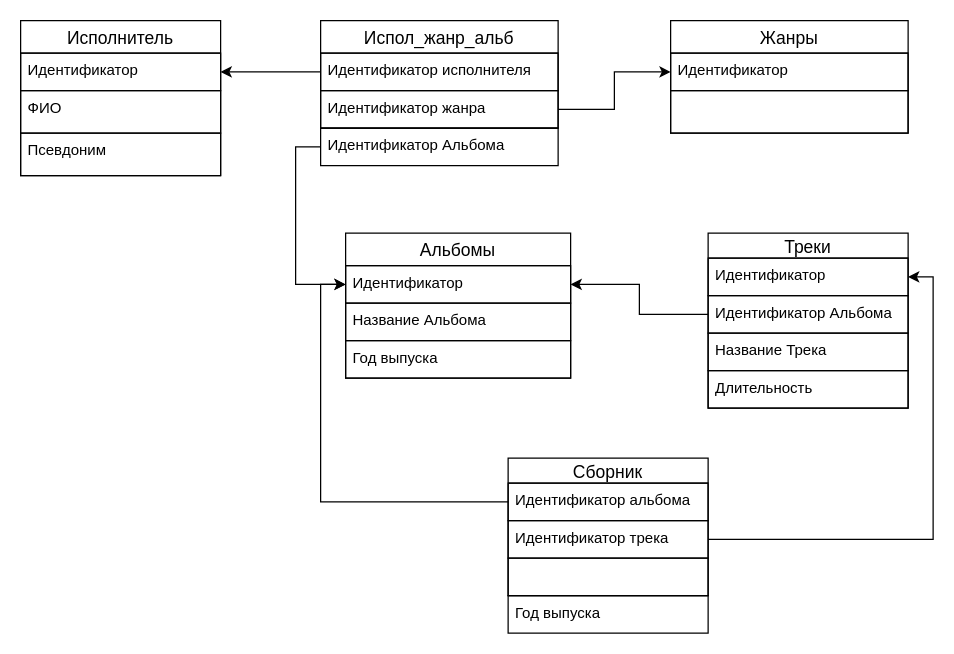
This 954x654 diagram has some shape labels left out. The shapes that lost their labels are listed below. From the top down, each one's centre as x and y in pixels, then its label:
At point (788, 111): "Название жанра".
At point (607, 576): "Название".
